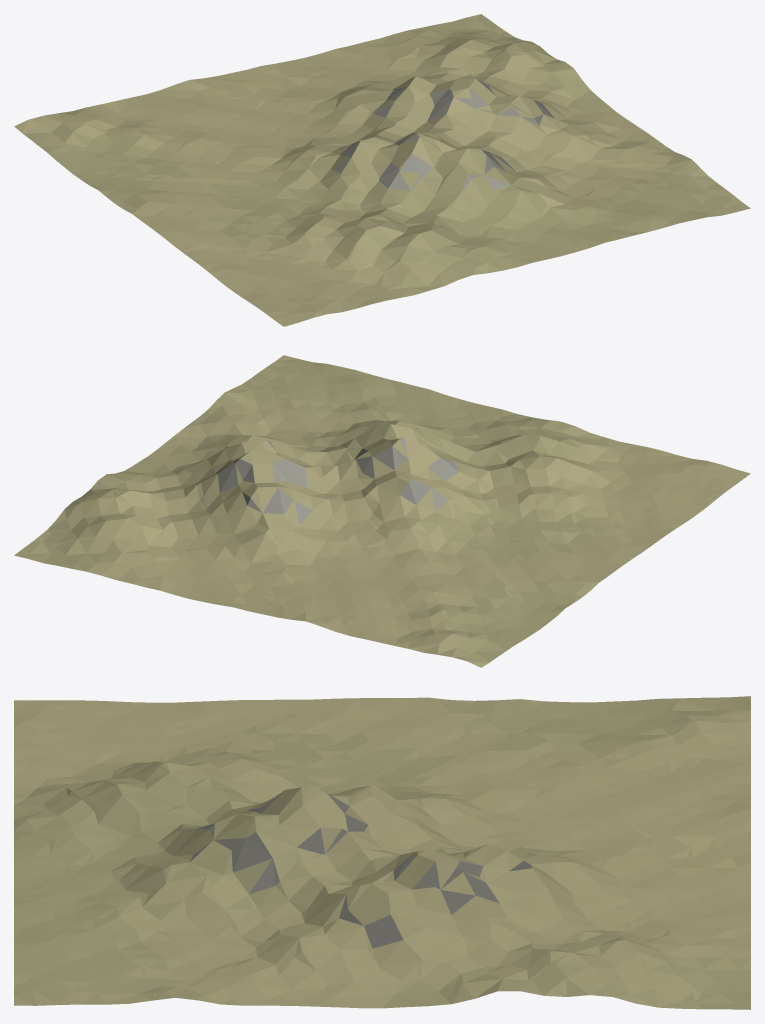
File: Ground_3_-7.glb
3 views of the same model, one above another, from view 1: azimuth 30°, elevation 25°; view 2: azimuth 150°, elevation 25°; view 3: azimuth 270°, elevation 25° (orthographic). The views are drawn at different scales.
Visible parts, largest first — view 1: Ground_3_-7; view 2: Ground_3_-7; view 3: Ground_3_-7.
Part boxes in pixels (x1=…): Ground_3_-7: x1=14, y1=14, x2=750, y2=326; Ground_3_-7: x1=14, y1=355, x2=750, y2=667; Ground_3_-7: x1=14, y1=696, x2=750, y2=1009.
Size of the model in its own units: 768 by 89.31 by 768.
